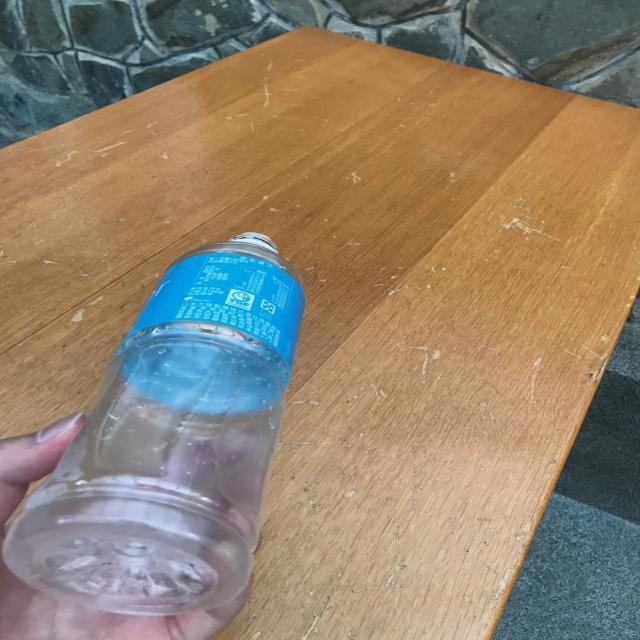plastic_bottle: (2, 232, 306, 616)
